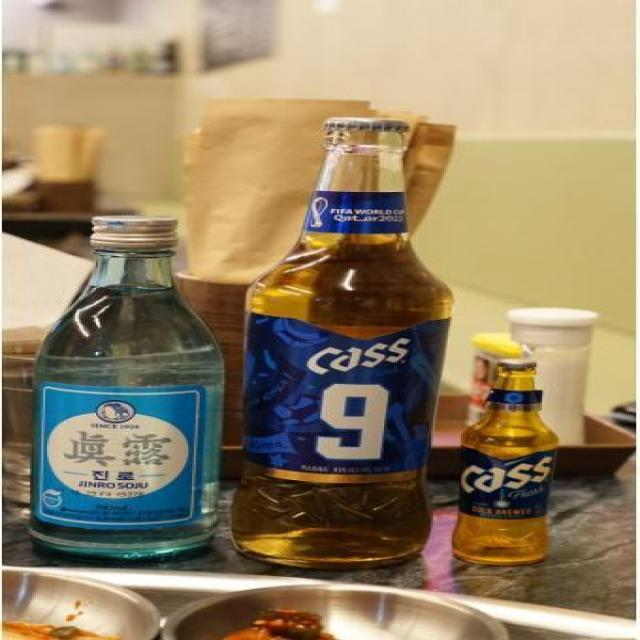beer-bottle: (221, 112, 485, 567)
soju-bottle: (24, 215, 230, 562)
